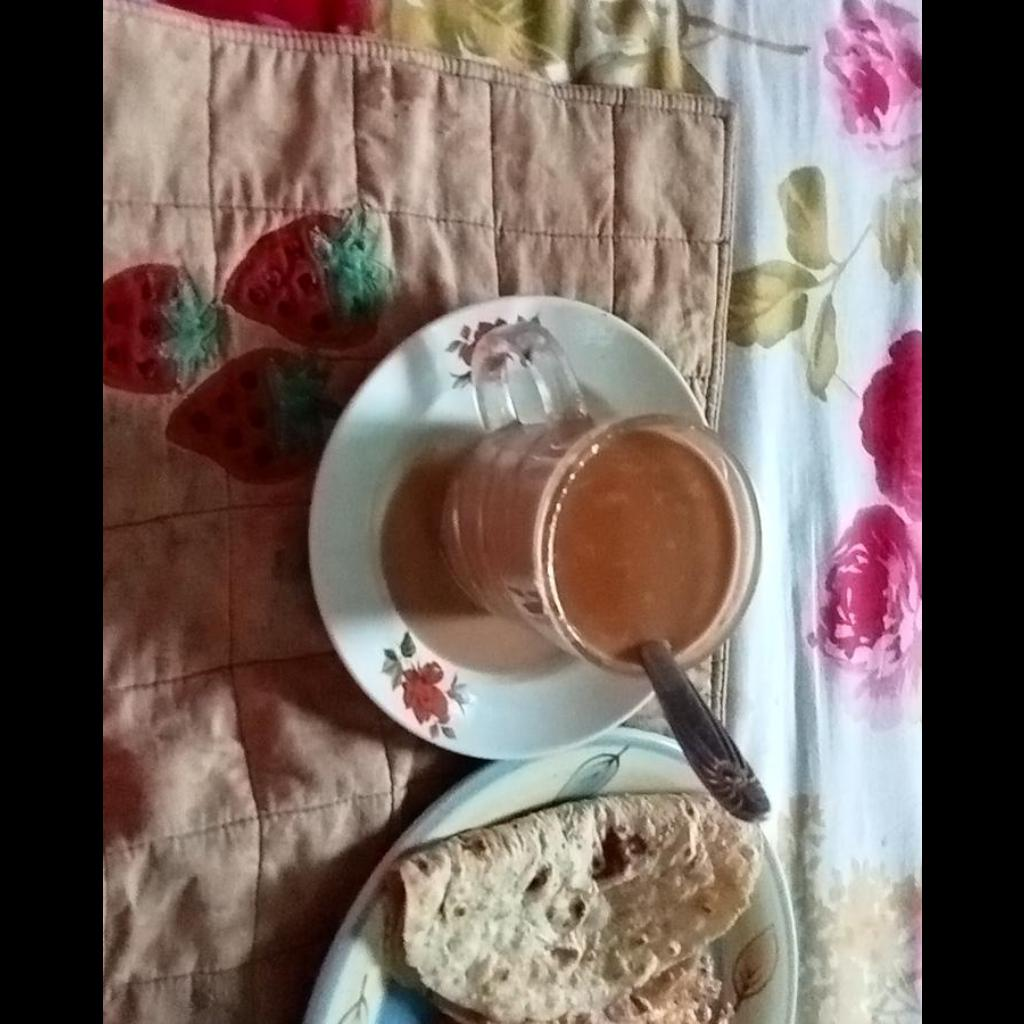cha: (549, 433, 740, 657)
ruti: (398, 794, 755, 1023)
